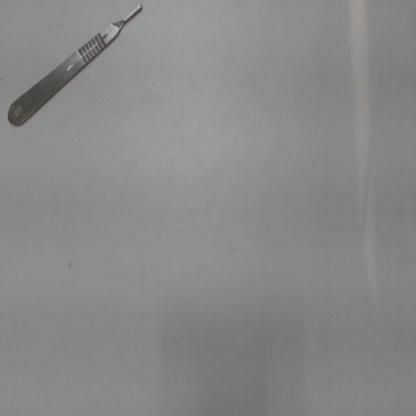No.3 BP Handle: (4, 3, 147, 136)
